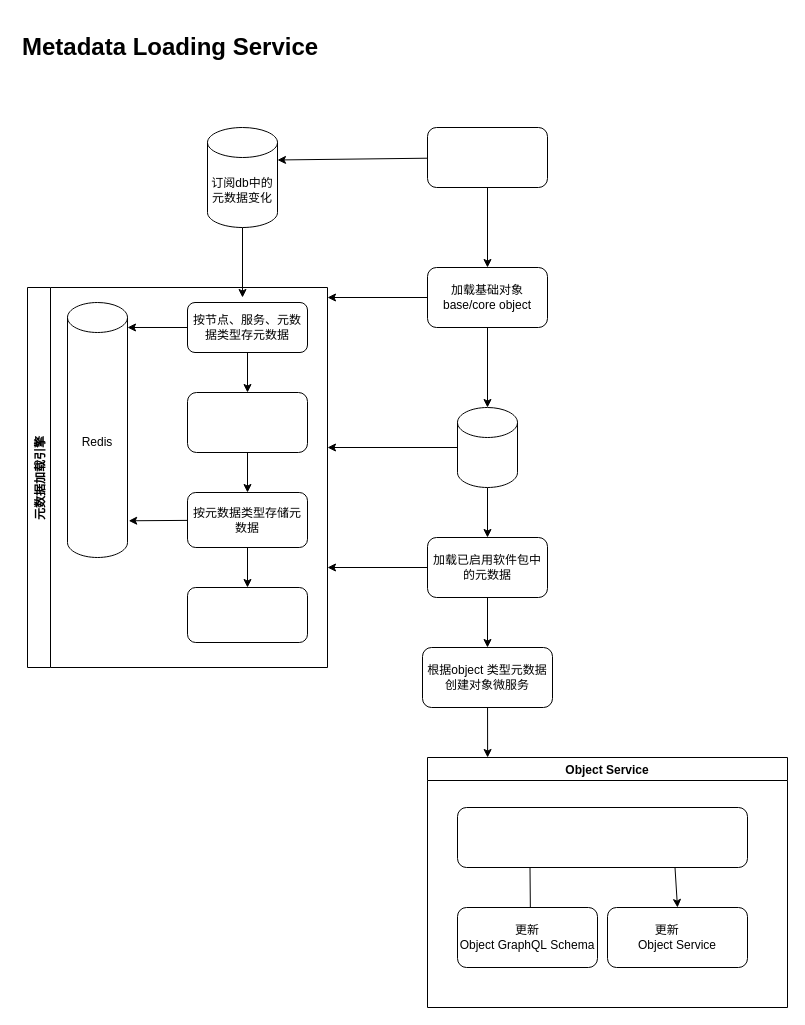
This 805x1025 diagram has some shape labels left out. Here are the shapes that lost their labels. From the top down, the box of each, then its label:
(426, 126, 548, 188): 启动服务
(186, 392, 308, 452): 按db优先的规则计算出最终的元数据并继承基础对象
(456, 406, 518, 488): 加载db中定义的元数据
(186, 586, 308, 642): 发送元数据变化事件
(456, 806, 748, 868): 订阅元数据变化事件 (安装、升级软件包 / 数据库元数据修改)
